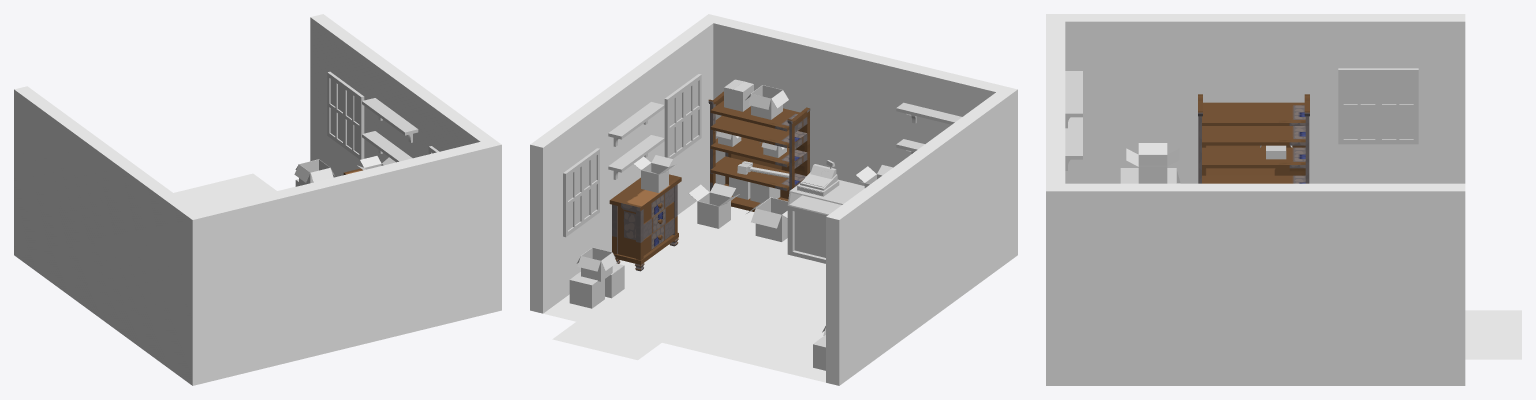
File: TestRoom.fbx
3 views of the same model, side by side, from view 1: azimuth 30°, elevation 25°; view 2: azimuth 150°, elevation 25°; view 3: azimuth 270°, elevation 25° (orthographic). The views are drawn at different scales.
Visible parts, largest first — view 1: Environment_Interiors_TestRoom, Environment_Interiors_Windows, Props_Furniture_WallShelf.001, BoxOpen2.006, Props_Furniture_WallShelf.002; view 2: Environment_Interiors_TestRoom, Props_Furniture_ShopShelving, Props_Furniture_Dresser, Props_Furniture_BarCounter, Environment_Interiors_Windows.001, Environment_Interiors_Windows, BoxOpen0.002, BoxOpen1, BoxOpen0.001, BoxOpen2.005, BoxClosed1.005, Props_CashRegister (+7 smaller); view 3: Environment_Interiors_TestRoom, Props_Furniture_ShopShelving.001, Environment_Interiors_Windows.002, BoxOpen0, Props_Furniture_WallShelf, Props_Furniture_WallShelf.003, Props_Furniture_BarCounter.
Part boxes in pixels (x1,y1,x2,y2): Environment_Interiors_TestRoom: [14, 14, 501, 385]; Environment_Interiors_Windows: [327, 71, 364, 159]; Props_Furniture_WallShelf.001: [362, 98, 418, 142]; BoxOpen2.006: [294, 159, 334, 185]; Props_Furniture_WallShelf.002: [362, 131, 412, 162]; Environment_Interiors_TestRoom: [530, 14, 1017, 385]; Props_Furniture_ShopShelving: [708, 91, 810, 211]; Props_Furniture_Dresser: [609, 174, 681, 271]; Props_Furniture_BarCounter: [787, 179, 864, 263]; Environment_Interiors_Windows.001: [664, 74, 701, 158]; Environment_Interiors_Windows: [563, 148, 599, 237]; BoxOpen0.002: [689, 183, 739, 228]; BoxOpen1: [746, 197, 787, 241]; BoxOpen0.001: [634, 155, 675, 192]; BoxOpen2.005: [745, 85, 788, 119]; BoxClosed1.005: [569, 272, 604, 308]; Props_CashRegister: [797, 160, 839, 196]; Environment_Interiors_TestRoom: [1046, 14, 1521, 385]; Props_Furniture_ShopShelving.001: [1198, 94, 1309, 183]; Environment_Interiors_Windows.002: [1338, 68, 1418, 144]; BoxOpen0: [1126, 143, 1179, 183]; Props_Furniture_WallShelf: [1065, 71, 1082, 128]; Props_Furniture_WallShelf.003: [1065, 117, 1082, 170]; Props_Furniture_BarCounter: [1120, 168, 1180, 183].
Size of the model in its own units: 527 by 270 by 598.
